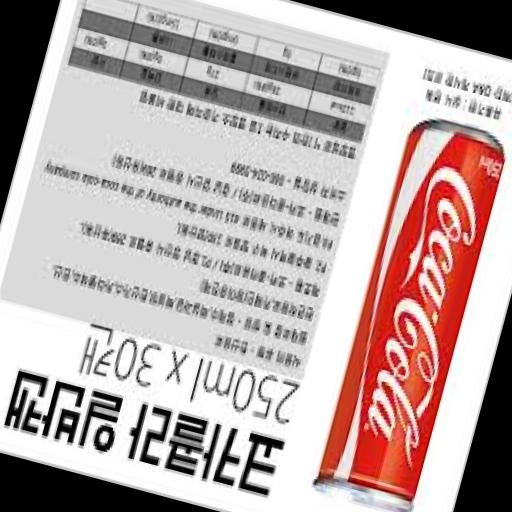Coca: (299, 102, 512, 512)
